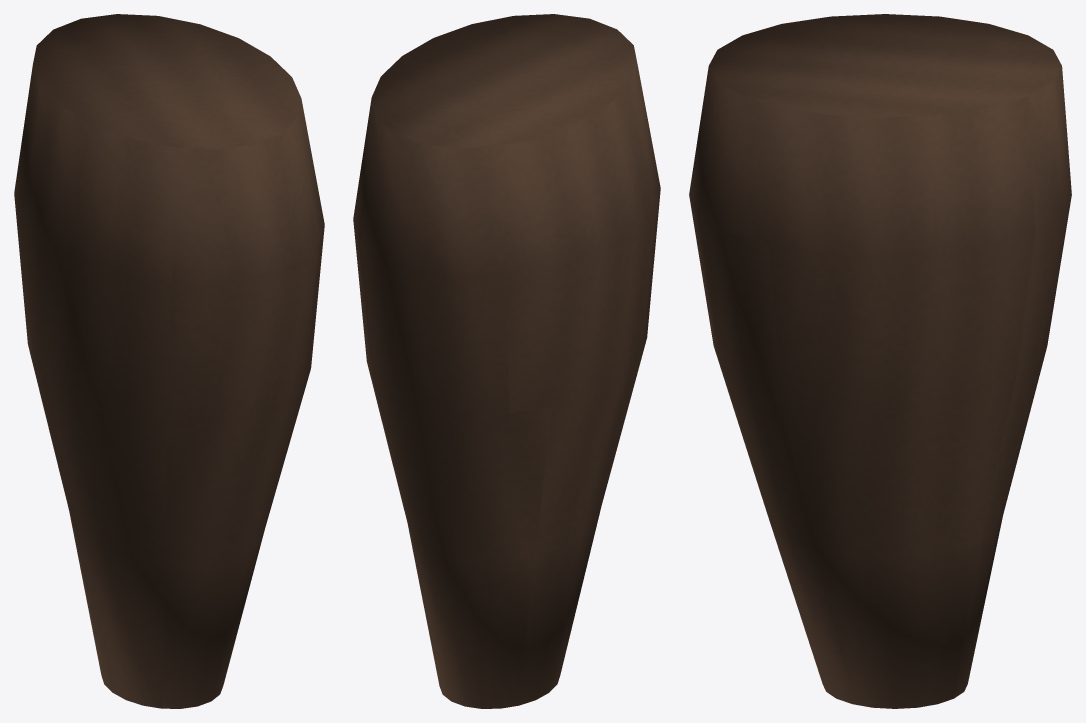
3 renders of one model, left to right at view 1: azimuth 30°, elevation 25°; view 2: azimuth 150°, elevation 25°; view 3: azimuth 270°, elevation 25°, orthographic. The views are drawn at different scales.
Parts seen in each view (by area): view 1: agro_rr_up_LOD0; view 2: agro_rr_up_LOD0; view 3: agro_rr_up_LOD0.
Part boxes in pixels (left/top/right/bottom): agro_rr_up_LOD0: left=14, top=14, right=324, bottom=708; agro_rr_up_LOD0: left=353, top=14, right=660, bottom=708; agro_rr_up_LOD0: left=689, top=14, right=1071, bottom=708.
Size of the model in its own units: 0.3 by 0.695 by 0.39.
Materials: 1 (1 with a texture image).
